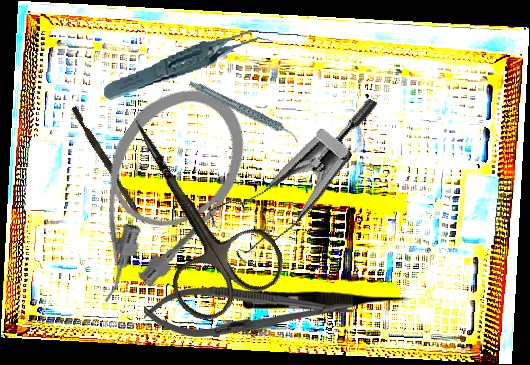Cannula: (41, 64, 270, 325)
Handpiece: (187, 61, 301, 163)
Iris Scissors: (88, 90, 294, 331)
Micro Scissor: (243, 291, 411, 313)
Needle Holder: (143, 283, 354, 340)
Pusher: (68, 106, 150, 225)
Speculum: (194, 56, 381, 284)
Tissue Forceps: (98, 27, 279, 102)
